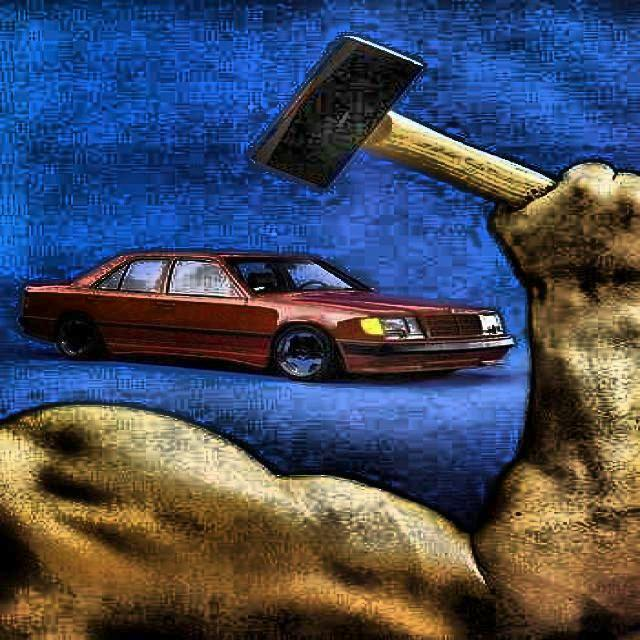hammer: (252, 34, 592, 232)
